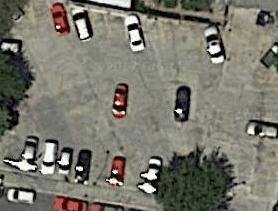parkingspot: (29, 0, 230, 68), (3, 132, 165, 198), (237, 68, 278, 205)
